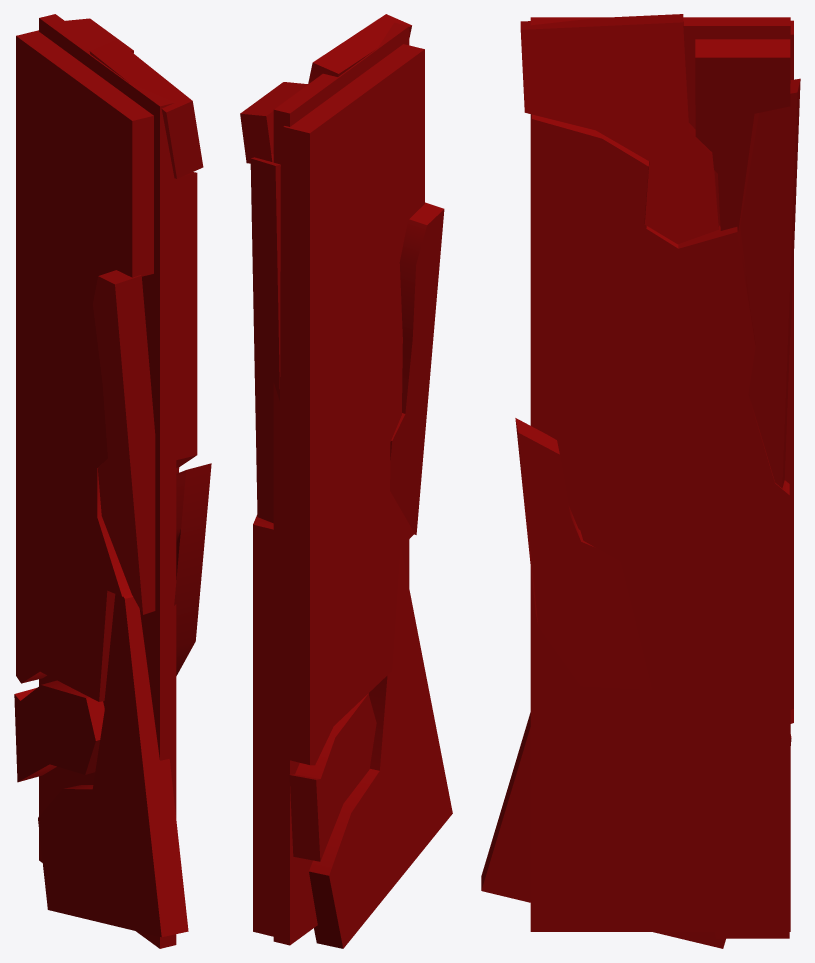
The model's file is SM_Panneau_big2.fbx.
3 views of the same model, side by side, from view 1: azimuth 30°, elevation 25°; view 2: azimuth 150°, elevation 25°; view 3: azimuth 270°, elevation 25° (orthographic). The views are drawn at different scales.
Parts seen in each view (by area): view 1: Panneau_big2; view 2: Panneau_big2; view 3: Panneau_big2.
Part boxes in pixels (x1=…): Panneau_big2: x1=14, y1=14, x2=211, y2=948; Panneau_big2: x1=240, y1=14, x2=452, y2=948; Panneau_big2: x1=481, y1=14, x2=800, y2=948.
Size of the model in its own units: 31.93 by 264 by 81.34.
